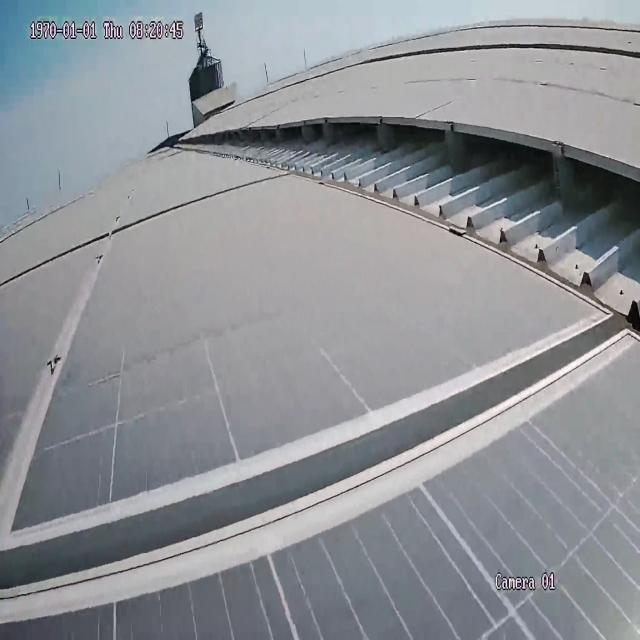interior panel: (0, 162, 640, 640)
outher panel: (172, 120, 640, 342)
